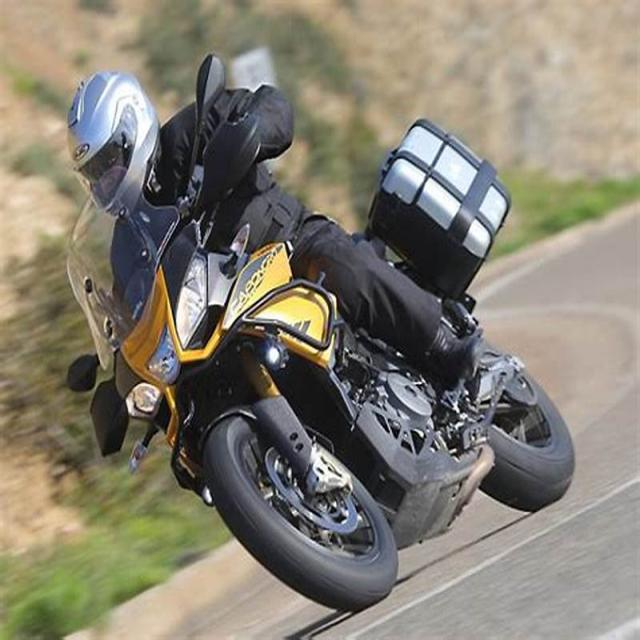helmet: (61, 64, 168, 222)
